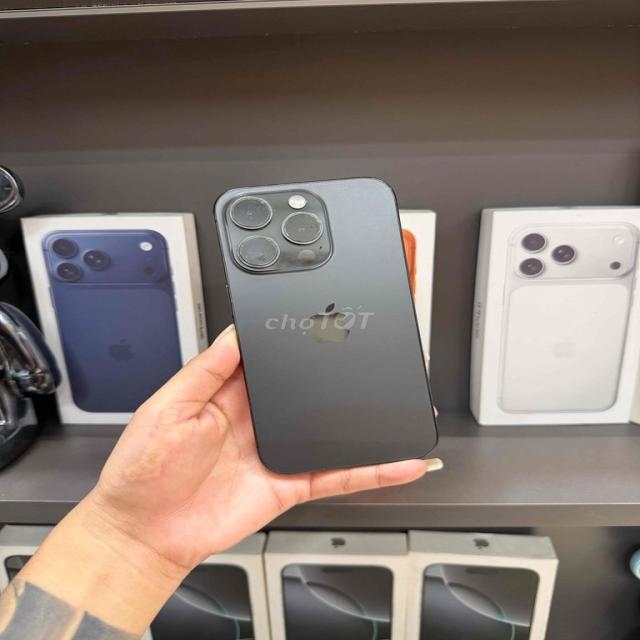gen_15: (220, 166, 445, 481)
